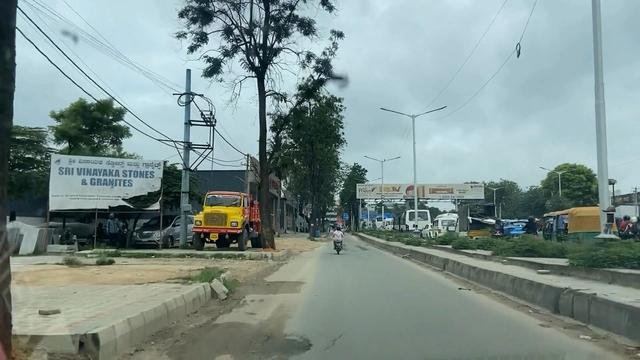RoadDamages: (187, 321, 310, 360), (241, 274, 312, 301), (320, 324, 352, 357)
